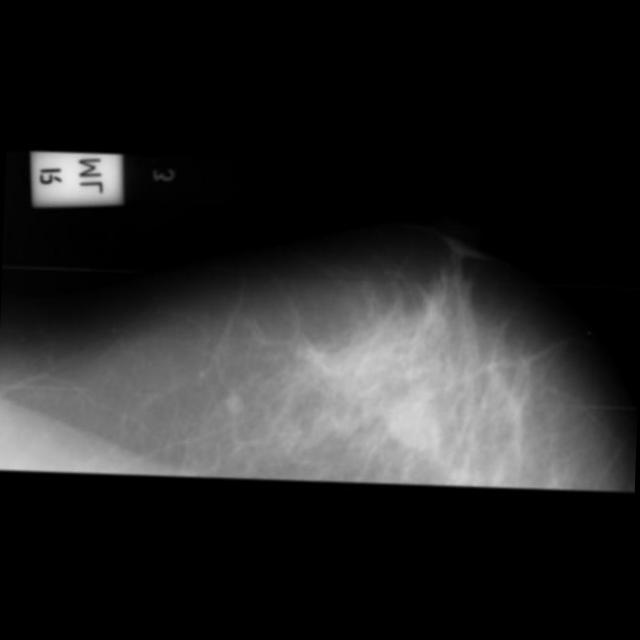ASYM: (376, 388, 441, 452)
